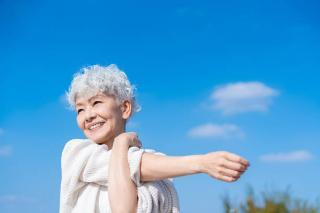person - v3 P: (28, 53, 320, 213)
